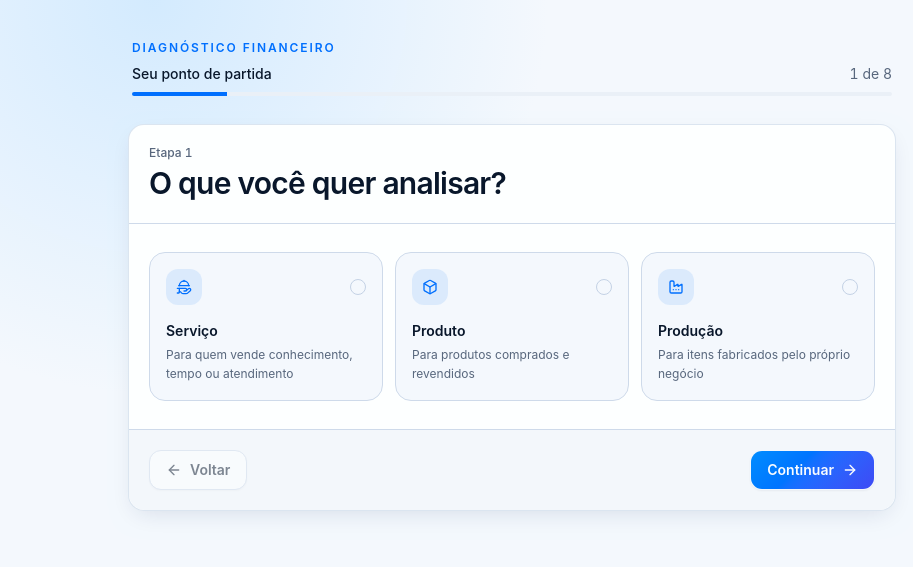
Test: QuickDiagnosisWizard category orchestration › requires an enabled diagnosis type before continuing
Click the button "Continuar". click: [813, 470]
box: [750, 450, 875, 490]
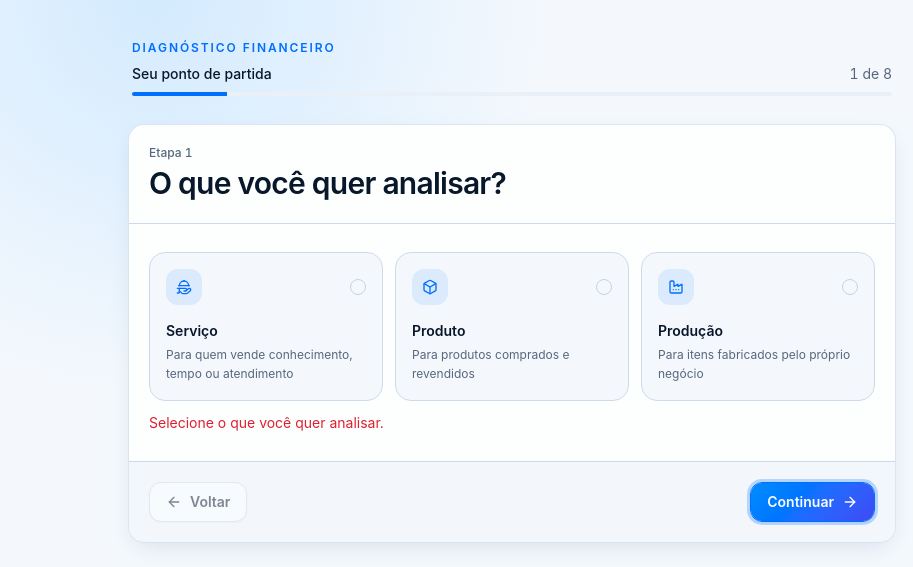
Expected: the text "1 de 8" is shown, [850, 64, 892, 84]
Expected: the message reads "Selecione o que você quer analisar.", [149, 414, 384, 430]
